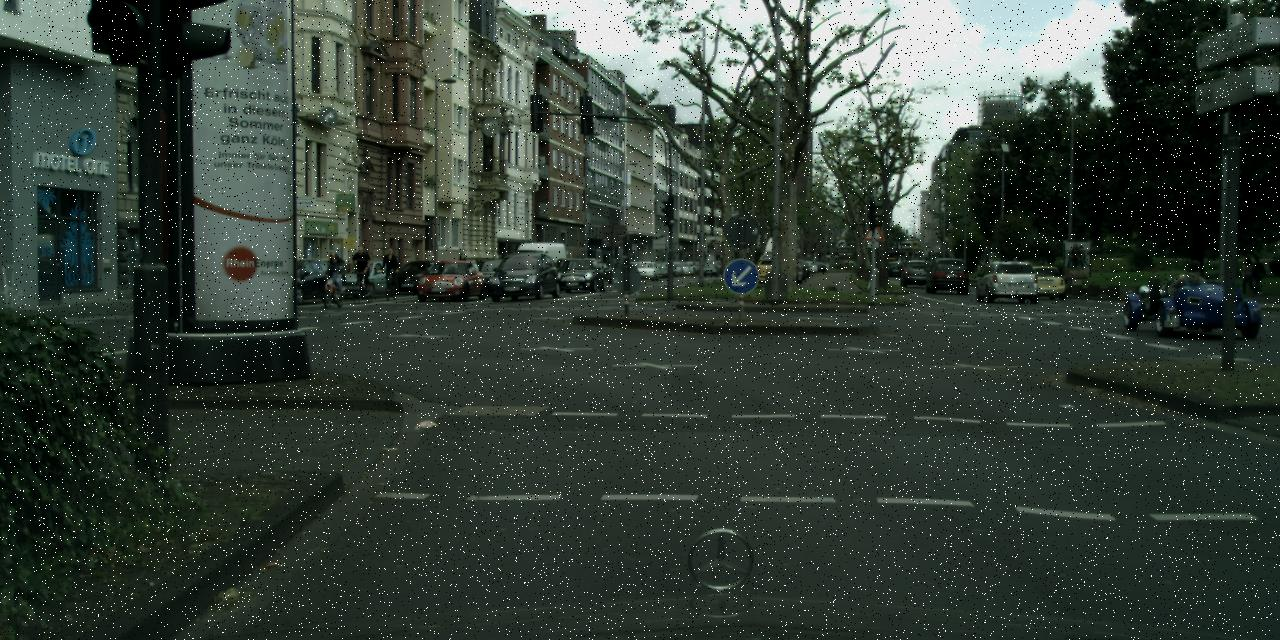ped: (1240, 254, 1268, 298), (352, 246, 370, 292), (325, 253, 343, 298), (381, 248, 397, 288), (456, 252, 466, 276)
